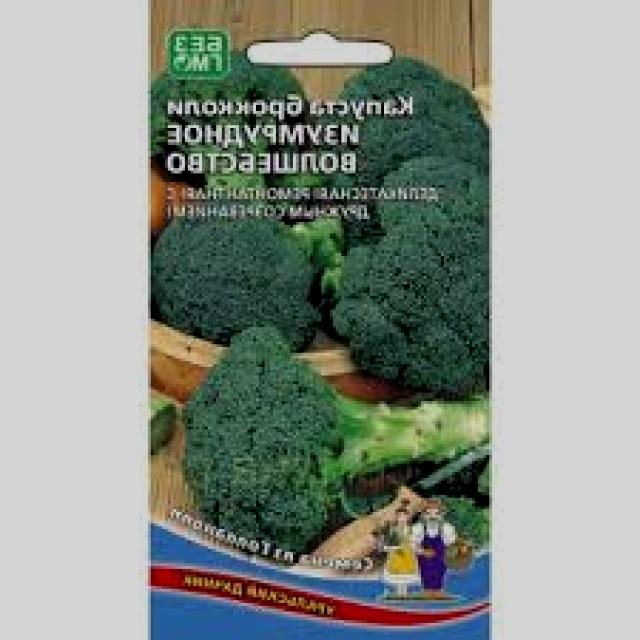broccoli: (150, 320, 410, 554), (291, 22, 494, 246), (343, 159, 519, 361), (134, 188, 322, 358), (130, 34, 303, 205)
